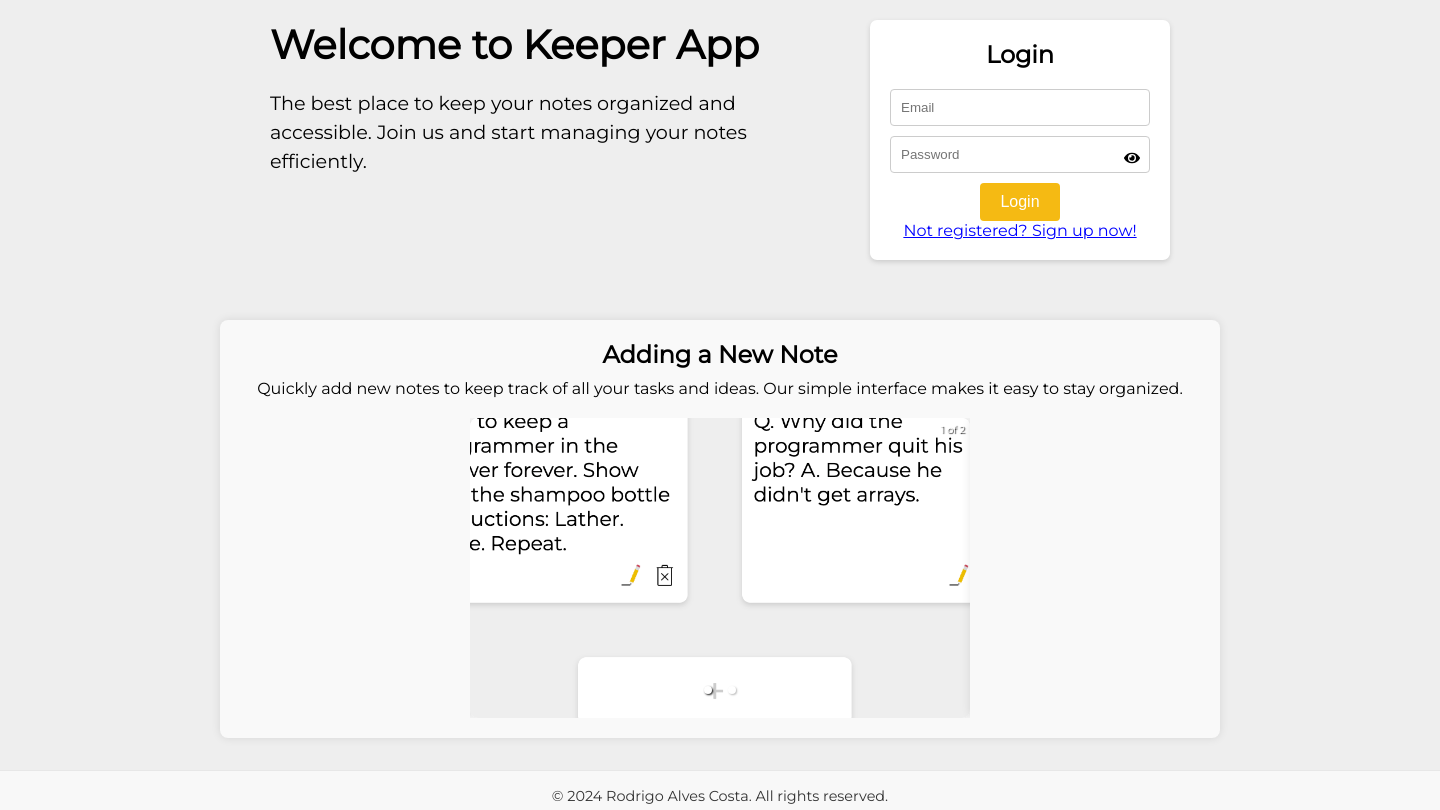
Test: App › should cancel editing an existing note
Note: Simulate login
In the field with placeholder "Email": point(1020, 108) [890,89,1150,126], type "jon@doe.com"
In the password field with placeholder "Password": point(1020, 154) [890,136,1150,173], type "123456"
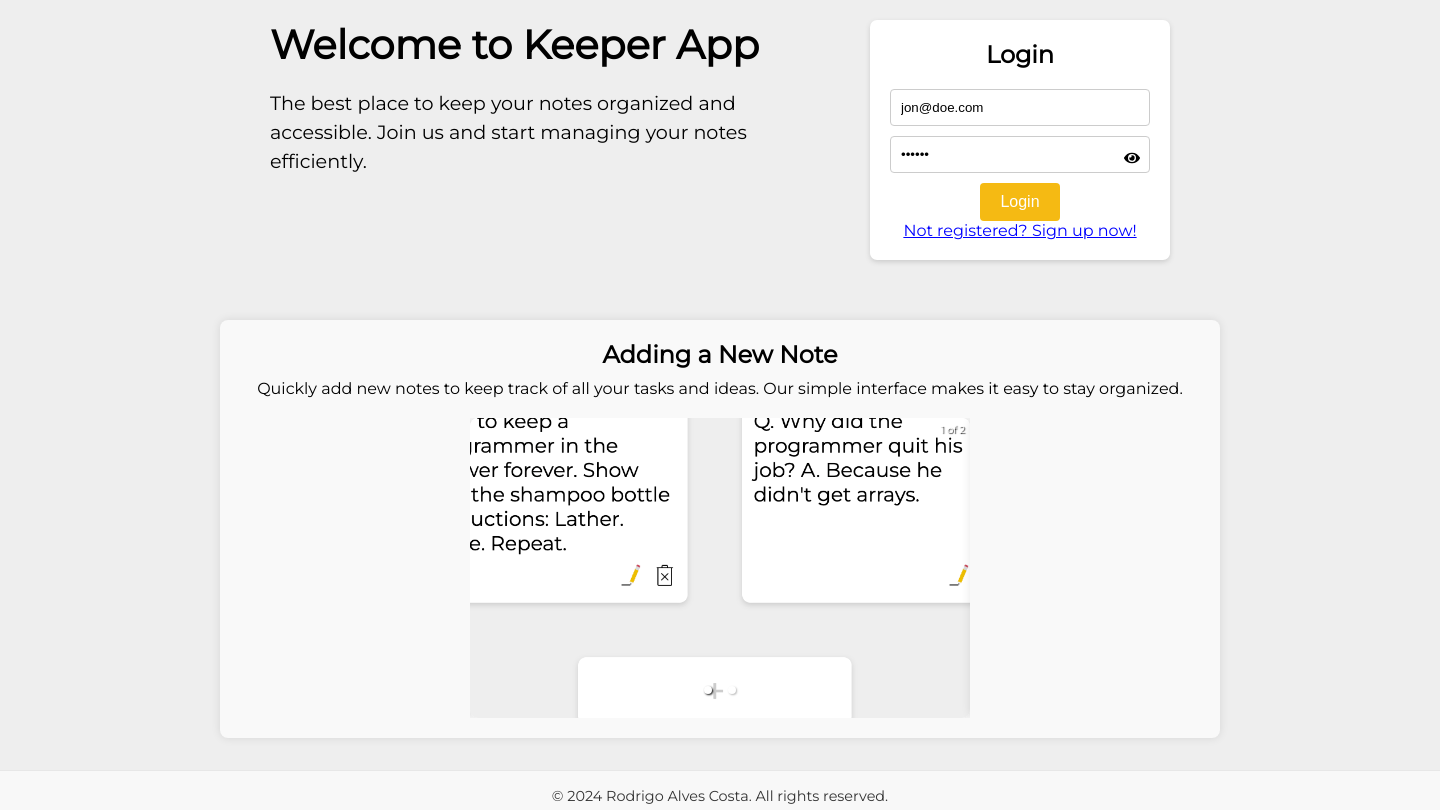
Click the button "Login": point(1020, 202) [980,183,1060,221]
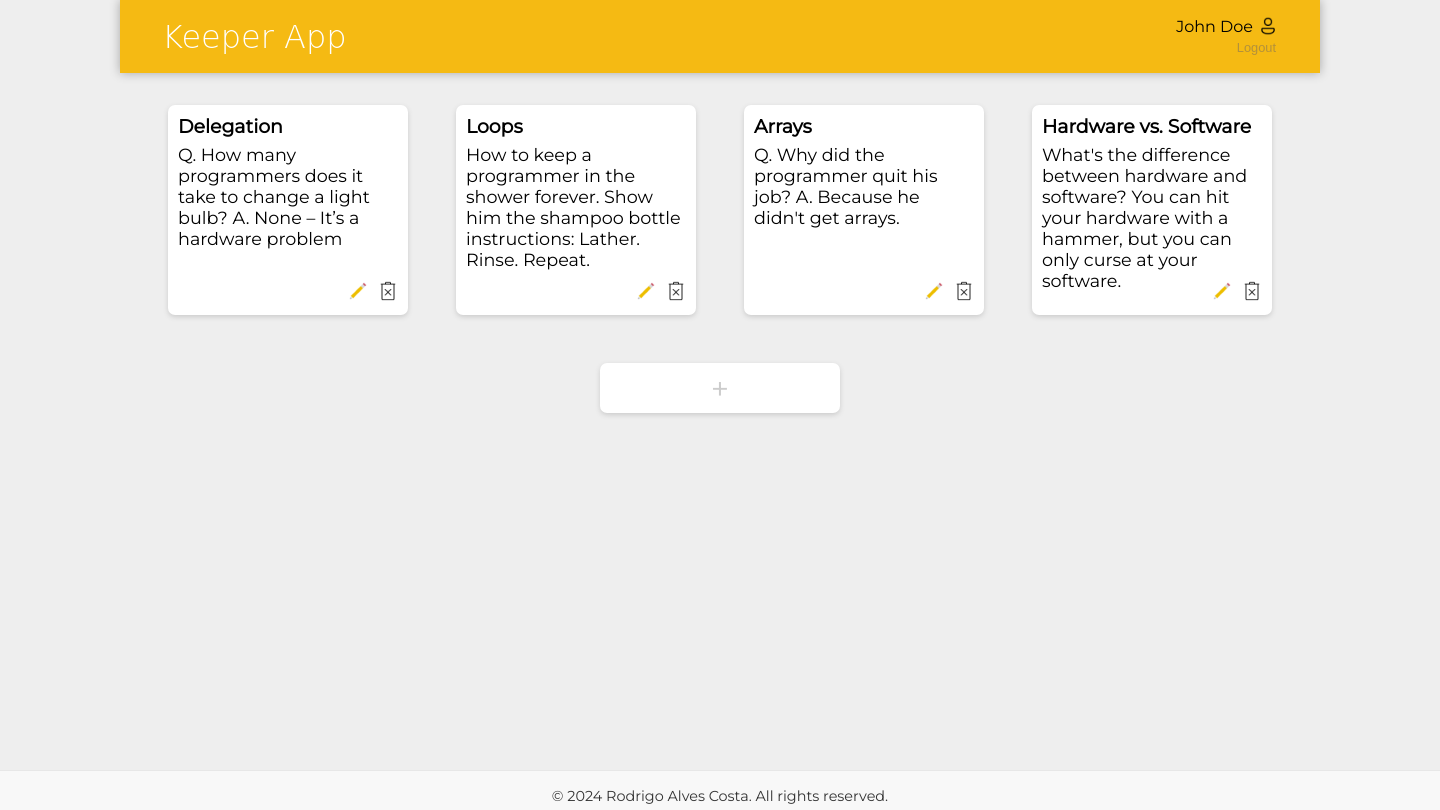
Click the picture with alt text "Edit" below "Delegation": point(358, 291) [348,281,368,301]
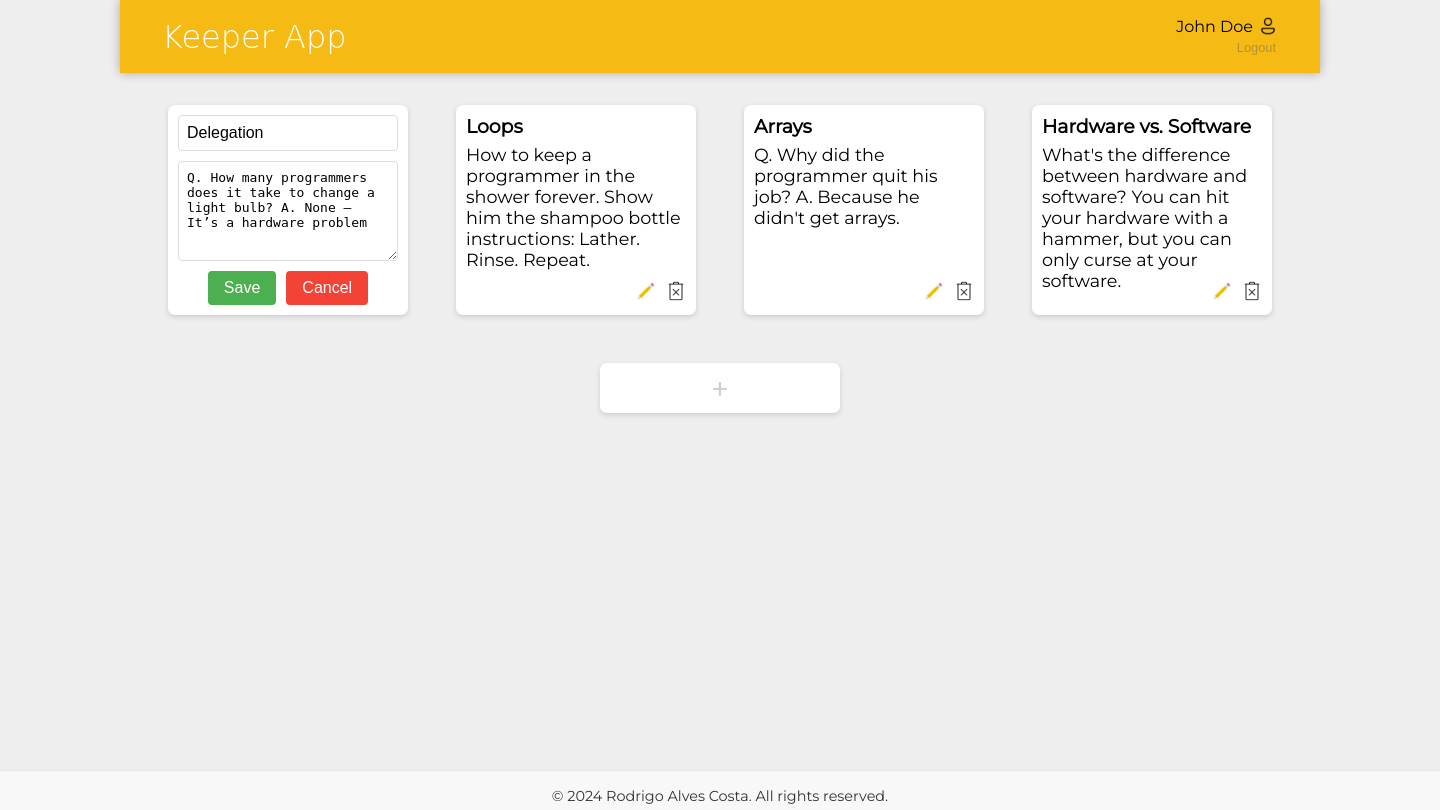
Replace the text in the field with placeholder "Title" with "Edited Title": point(288, 133) [178,115,398,151]
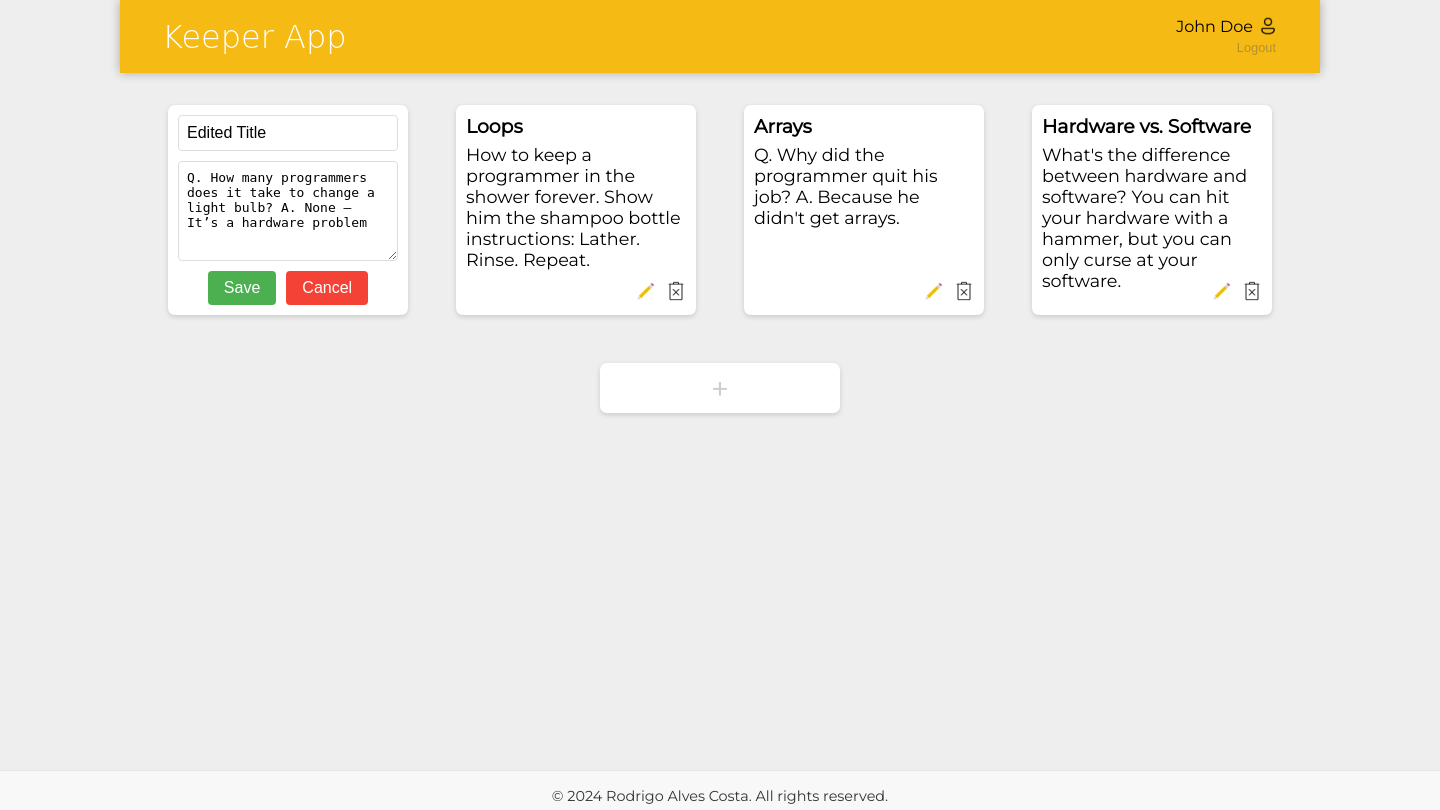
Replace the text in the text box with placeholder "Content" with "Edited Content": point(288, 211) [178,161,398,261]
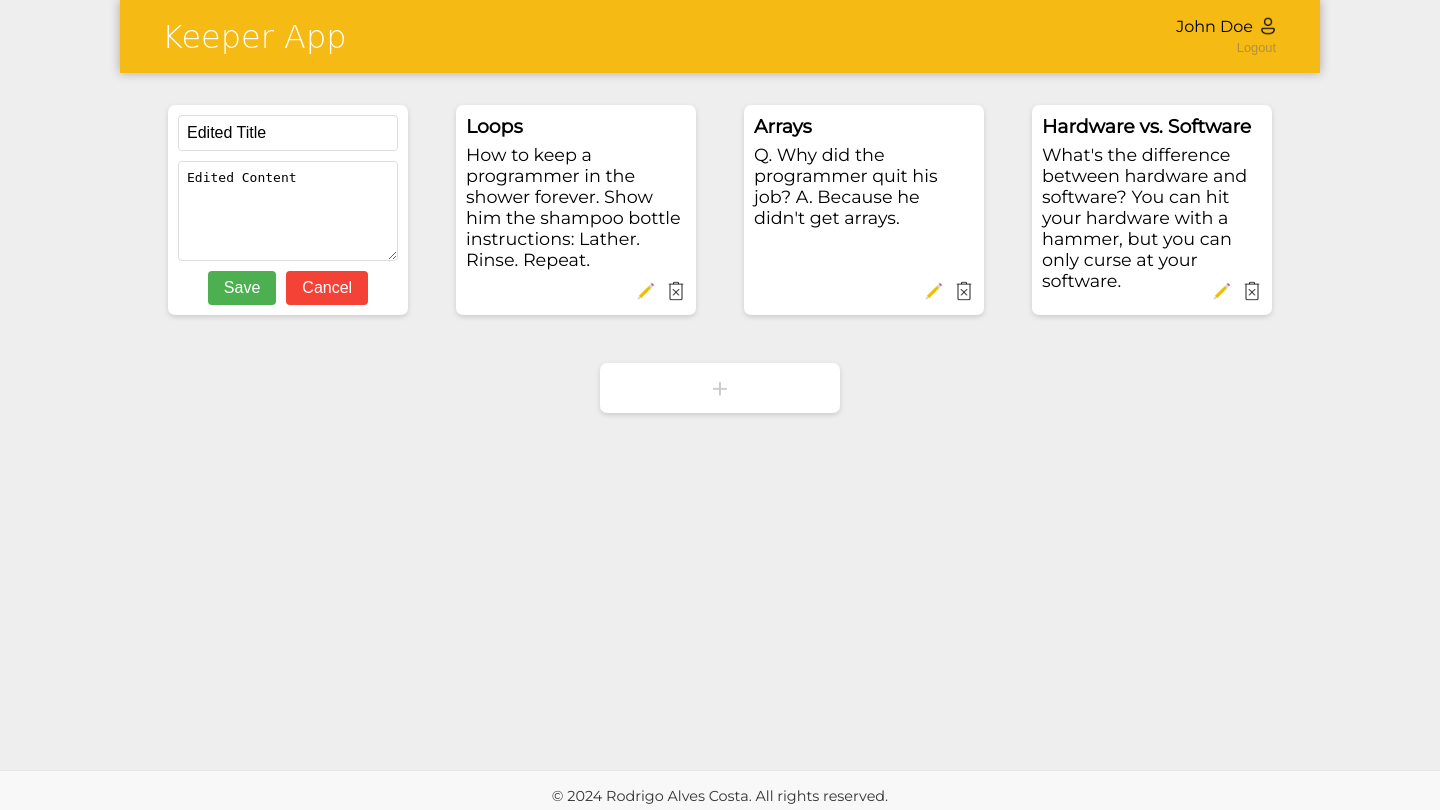
Click the button "Cancel": point(327, 288) [286,271,368,305]
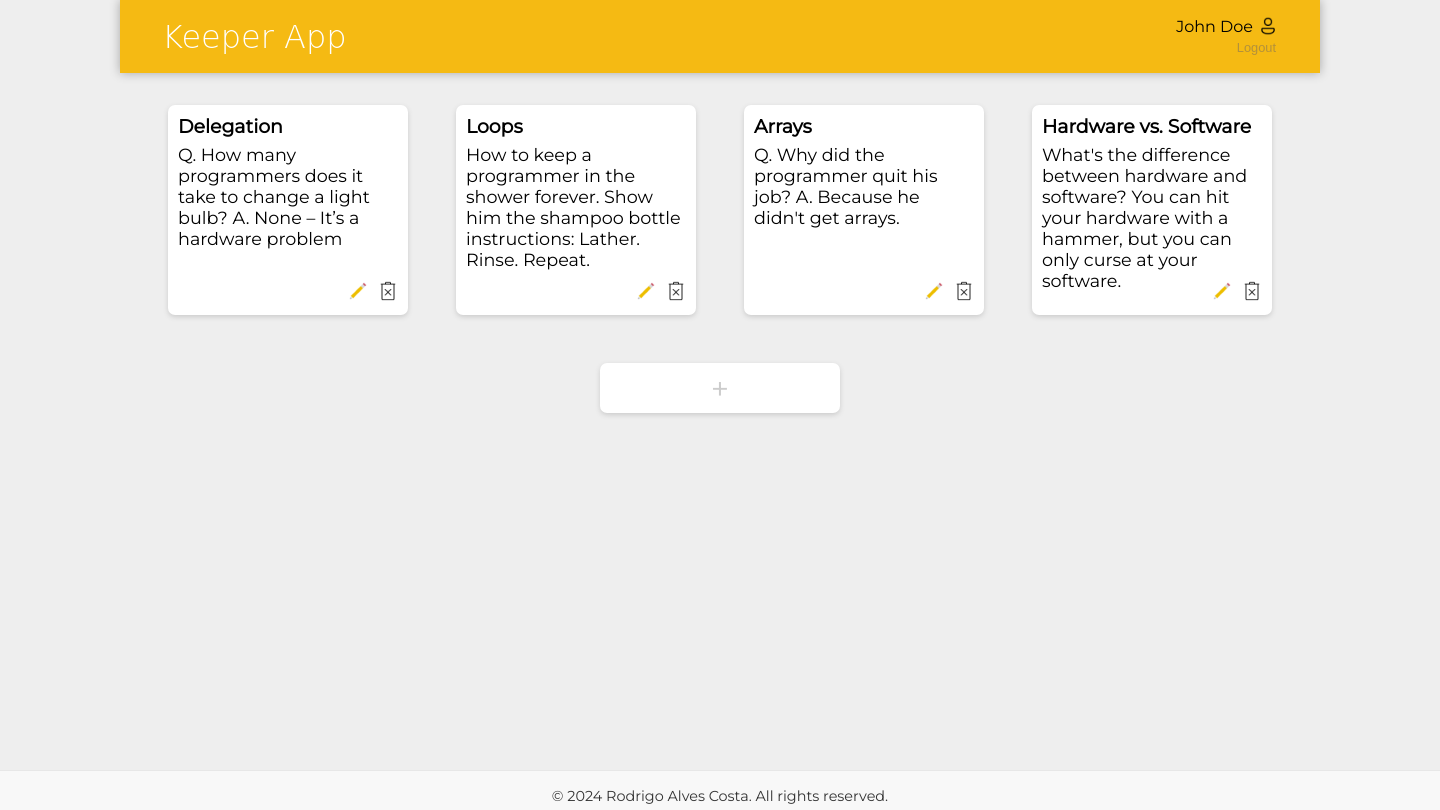
Now the field "Edited Title" is gone
Now the text box "Edited Content" is gone
